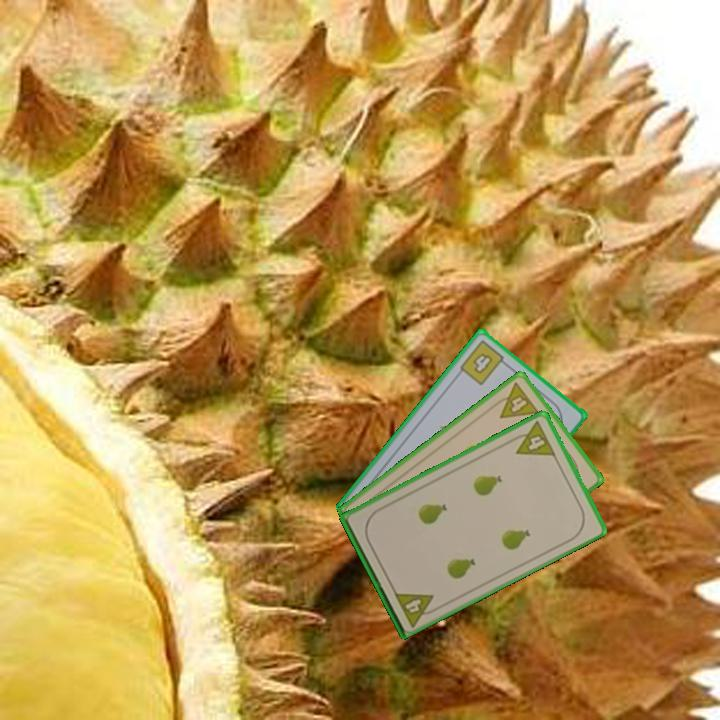4b: (456, 336, 512, 388)
4p: (488, 378, 542, 421), (506, 417, 558, 459), (390, 588, 442, 629)
